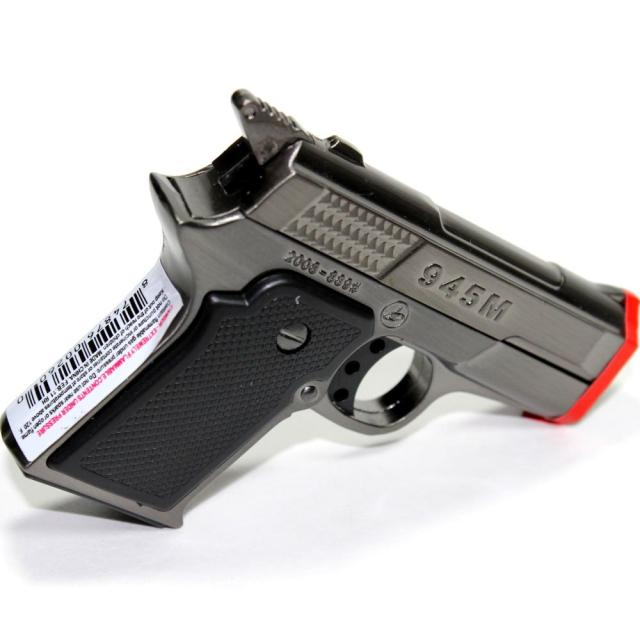HandGun: (0, 90, 640, 531)
